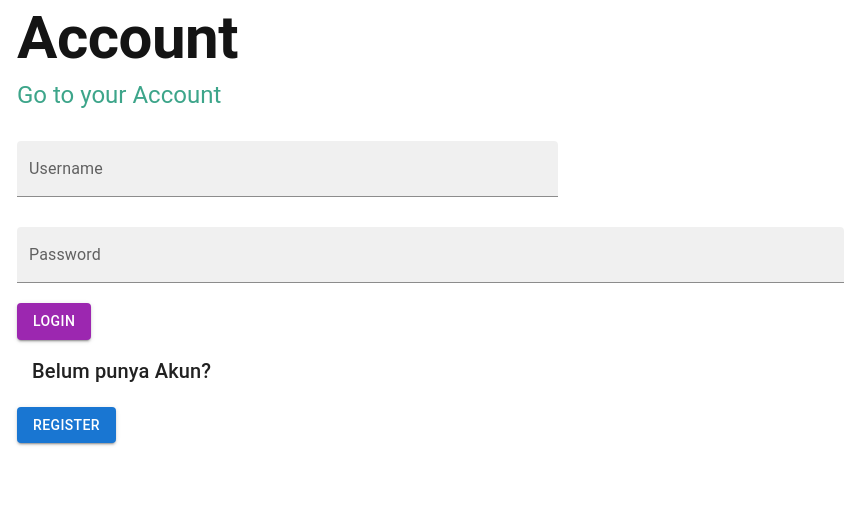
it: Login Component › validates the form fields
Click the login button without filling any fields
Click the button "Login": (54,321) 17,303 -> 91,340
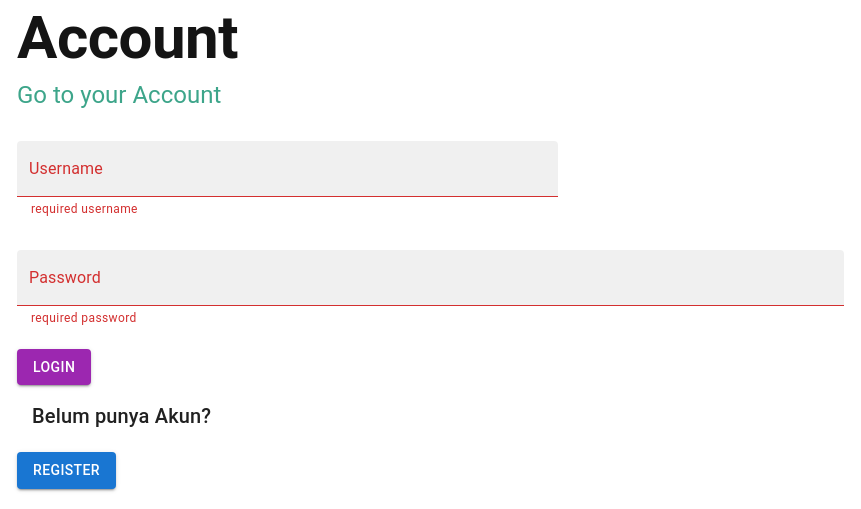
Now the text "required username" is shown, box 31,202 -> 138,216
Now the text "required password" is shown, box 31,311 -> 137,325
